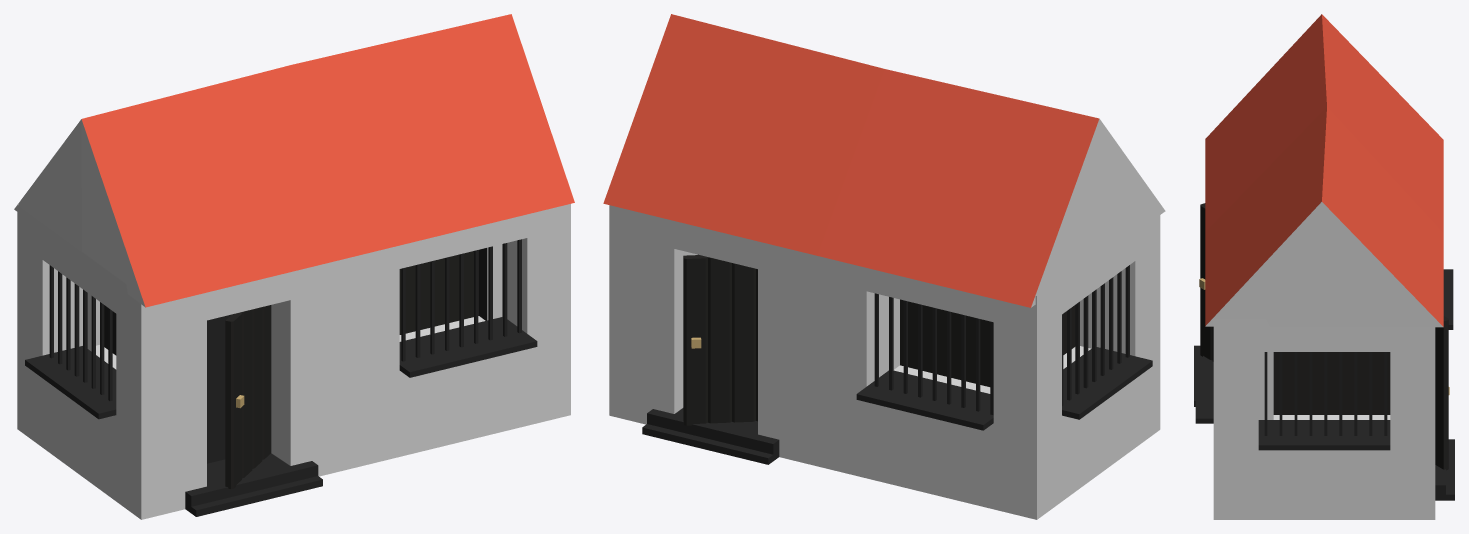
The model's file is casa procedural_relleno_3.fbx.
3 renders of one model, left to right at view 1: azimuth 30°, elevation 25°; view 2: azimuth 150°, elevation 25°; view 3: azimuth 270°, elevation 25°, orthographic. The views are drawn at different scales.
Parts seen in each view (by area): view 1: Procedural_Building_straight.003; view 2: Procedural_Building_straight.003; view 3: Procedural_Building_straight.003.
Part boxes in pixels (x1,y1,x2,y2): Procedural_Building_straight.003: (14,14,574,519); Procedural_Building_straight.003: (603,14,1165,519); Procedural_Building_straight.003: (1194,14,1454,519).
Bounding box in the file's own units: 216 × 159 × 118.
